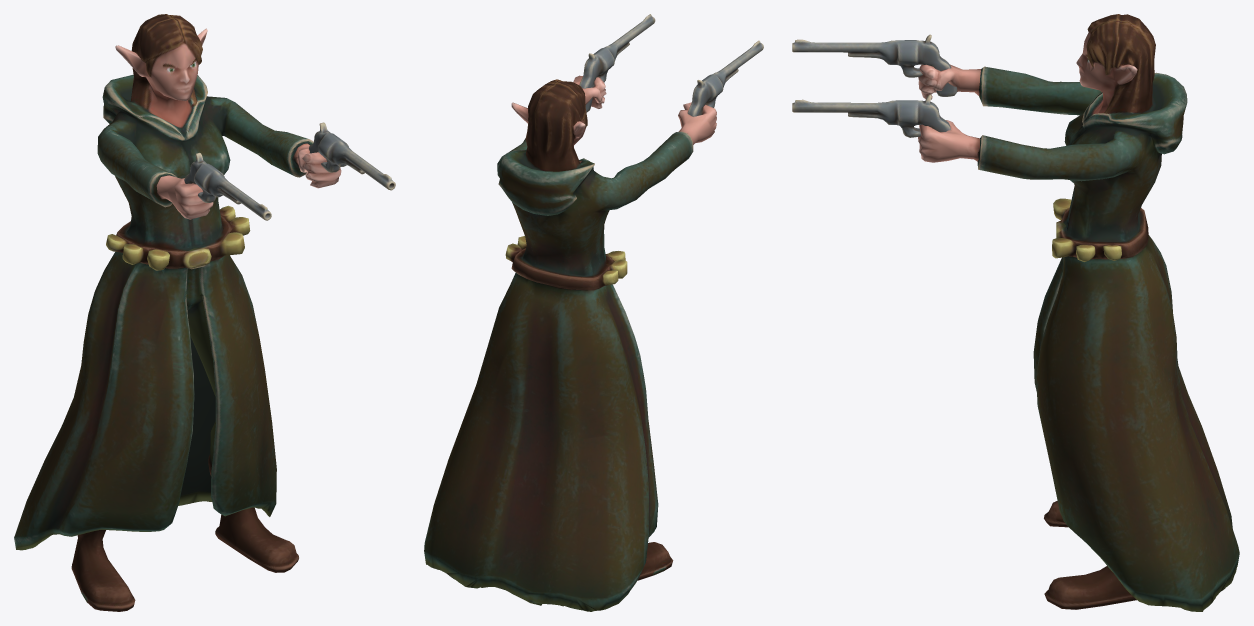
The model's file is MZ4250 - Female Elf Gunslinger.glb.
The picture shows the model from 3 angles, left to right: view 1: azimuth 30°, elevation 25°; view 2: azimuth 150°, elevation 25°; view 3: azimuth 270°, elevation 25°; orthographic projection. The views are drawn at different scales.
Visible parts, largest first — view 1: body_low.001, gun1_low.001, gun2_low.001; view 2: body_low.001, gun2_low.001, gun1_low.001; view 3: body_low.001, gun1_low.001, gun2_low.001.
Boxes of the visible parts, x1,y1,x2,y2 form: body_low.001: [14, 14, 341, 611]; gun1_low.001: [184, 152, 271, 220]; gun2_low.001: [306, 122, 395, 190]; body_low.001: [424, 75, 716, 611]; gun2_low.001: [579, 14, 655, 112]; gun1_low.001: [687, 40, 763, 116]; body_low.001: [918, 14, 1239, 611]; gun1_low.001: [792, 34, 957, 96]; gun2_low.001: [792, 94, 950, 137].
Size of the model in its own units: 2.43 by 5.3 by 3.96.
1 material, 1 textured.
